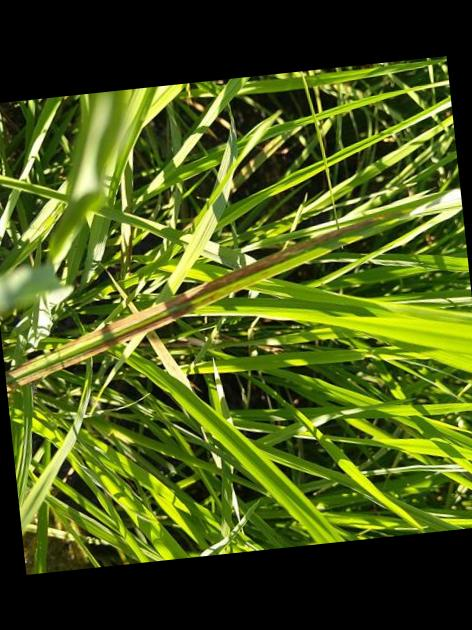Leaf Streak: (5, 207, 410, 391)
